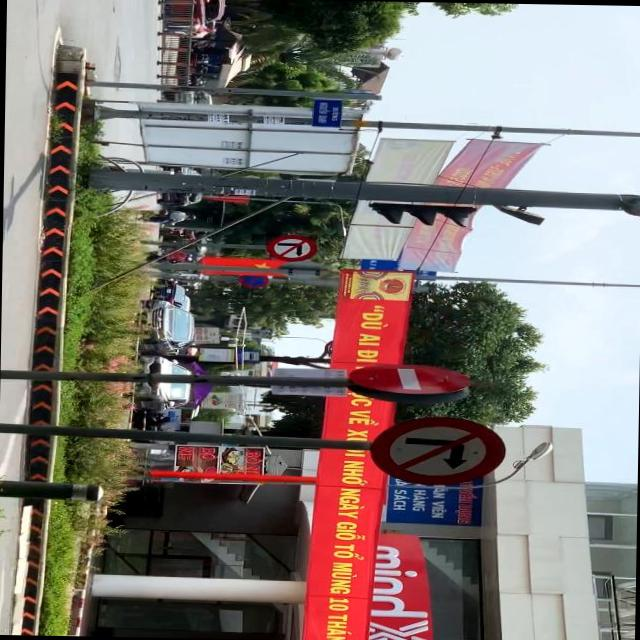P-102: (346, 362, 465, 392)
P-123b: (368, 416, 506, 485), (268, 233, 316, 260)
